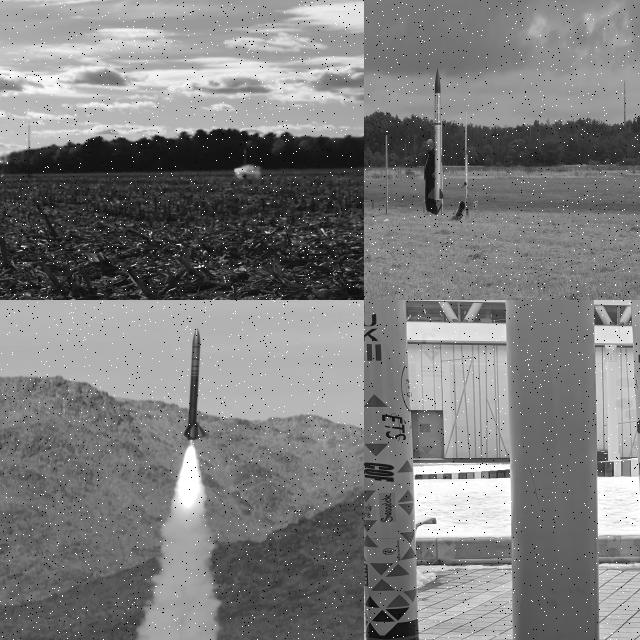Rocket: (364, 300, 420, 640), (184, 327, 208, 441), (428, 67, 444, 201), (242, 148, 247, 172)
